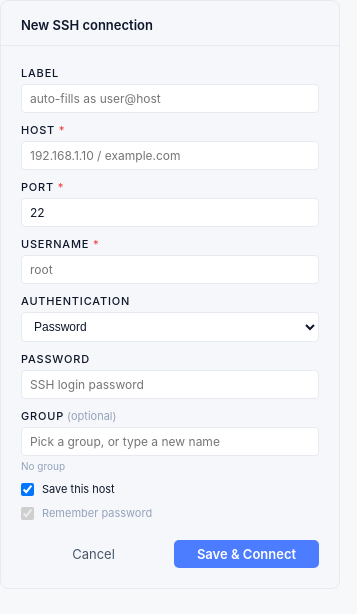
Test case: HostForm › key picker pre-populated when switching to key mode
Select "Key file…" in the dropdown labelled "Authentication" at (170, 327), box [21, 312, 319, 342]
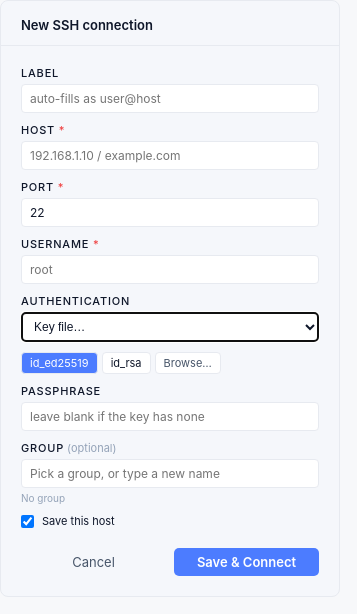
Check: the button "id_ed25519" is shown, box [21, 352, 98, 374]
